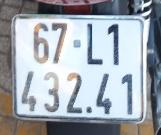1: (106, 22, 125, 67), (121, 73, 135, 115)
2: (65, 72, 84, 115)
3: (42, 69, 61, 114)
4: (94, 72, 115, 115), (20, 71, 39, 113)
6: (31, 23, 51, 65)
7: (51, 21, 68, 66)
L: (84, 21, 106, 68)
